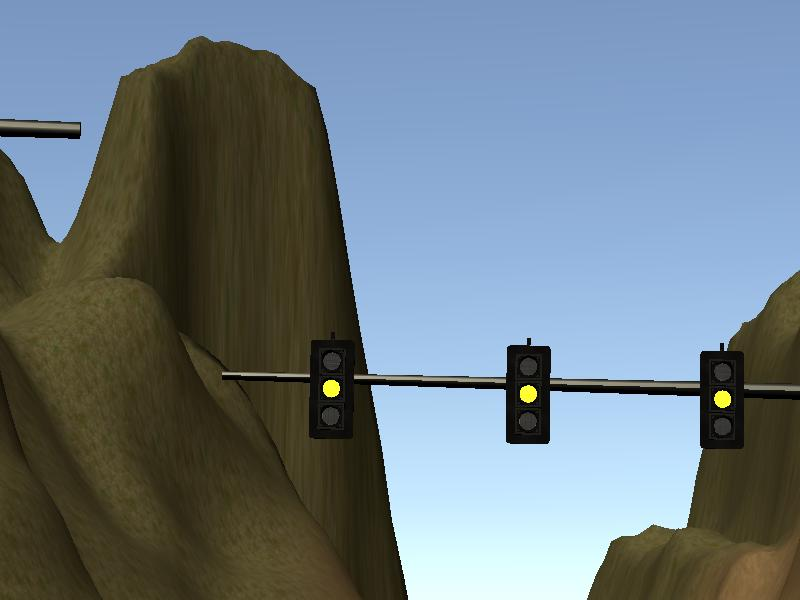not_red: (506, 345, 549, 444), (702, 350, 743, 447), (313, 338, 350, 438)
